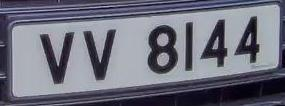1: (179, 16, 203, 80)
4: (196, 13, 232, 76), (228, 9, 264, 72)
8: (141, 18, 183, 80)
V: (32, 26, 80, 90), (78, 24, 123, 82)
